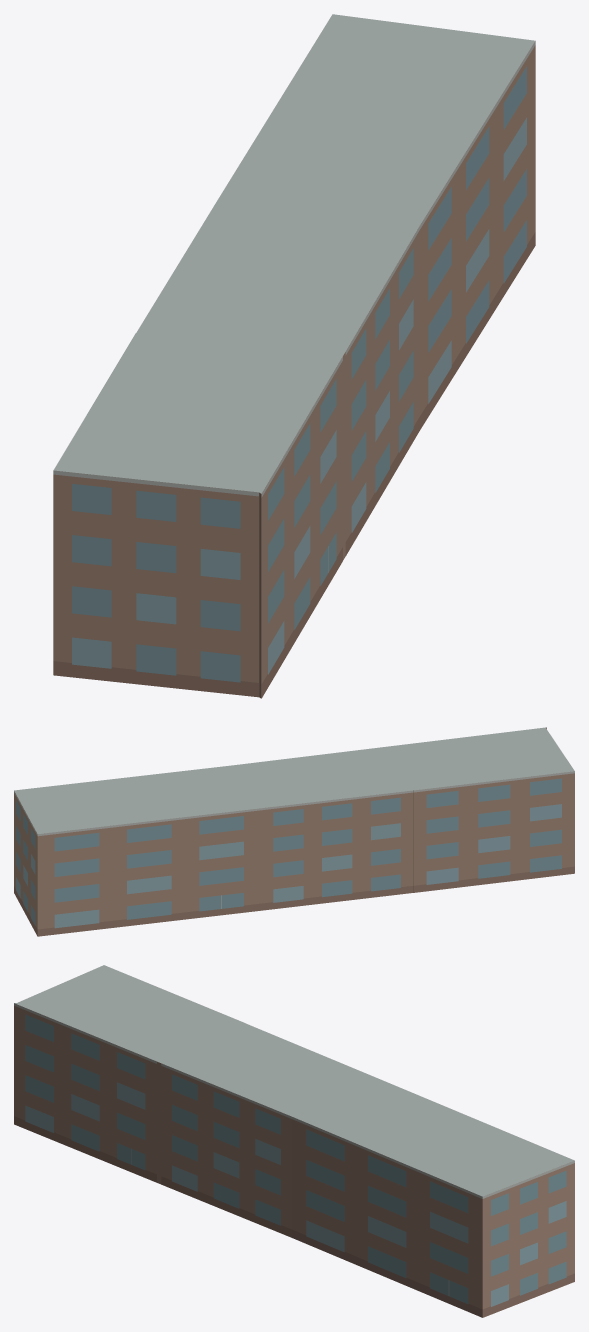
File: survey-upis-32758173.glb
3 views of the same model, one above another, from view 1: azimuth 30°, elevation 25°; view 2: azimuth 150°, elevation 25°; view 3: azimuth 270°, elevation 25° (orthographic). The views are drawn at different scales.
Visible parts, largest first — view 1: survey-upis-32758173.tmp; view 2: survey-upis-32758173.tmp; view 3: survey-upis-32758173.tmp.
Boxes of the visible parts, x1=… form: survey-upis-32758173.tmp: x1=53, y1=14, x2=535, y2=698; survey-upis-32758173.tmp: x1=14, y1=727, x2=574, y2=936; survey-upis-32758173.tmp: x1=14, y1=965, x2=574, y2=1317.
Size of the model in its own units: 49.98 by 12.2 by 51.14.
